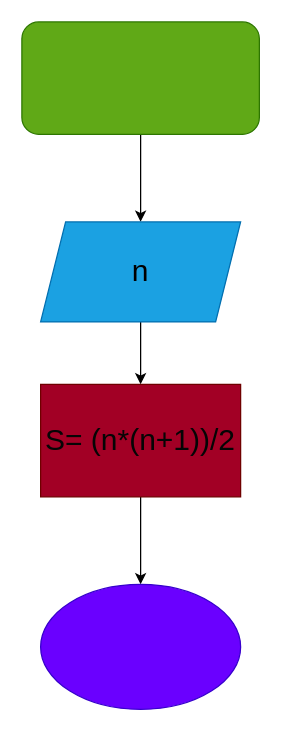
The diagram is 281 pixels wide and 731 high, and some of its shapes have lost their labels. The centre of each missing label's shape, as x and y in pixels:
FIN: point 140,646
INICIO: point 140,77
